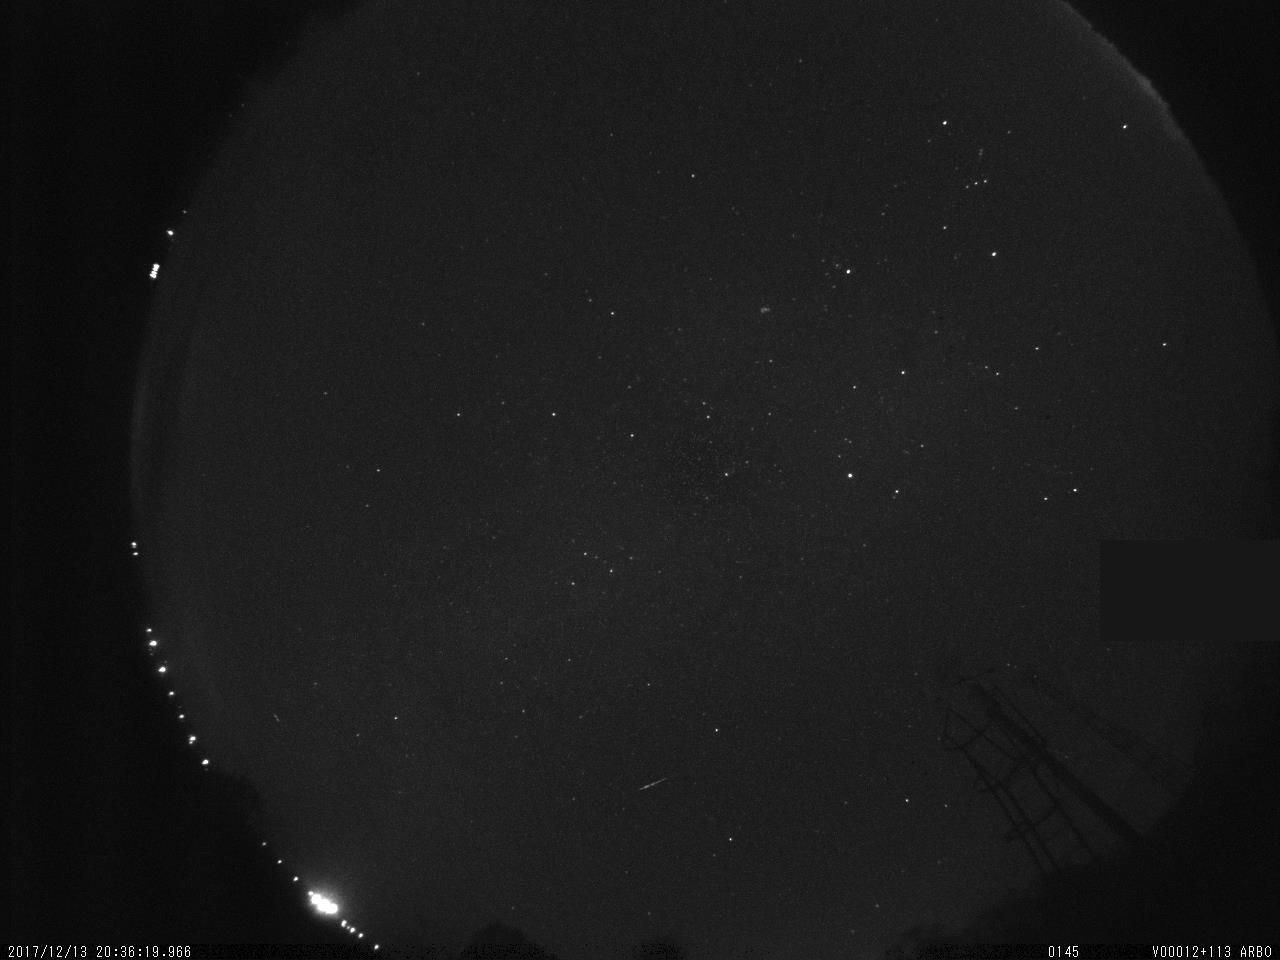meteor: (631, 771, 681, 807)
